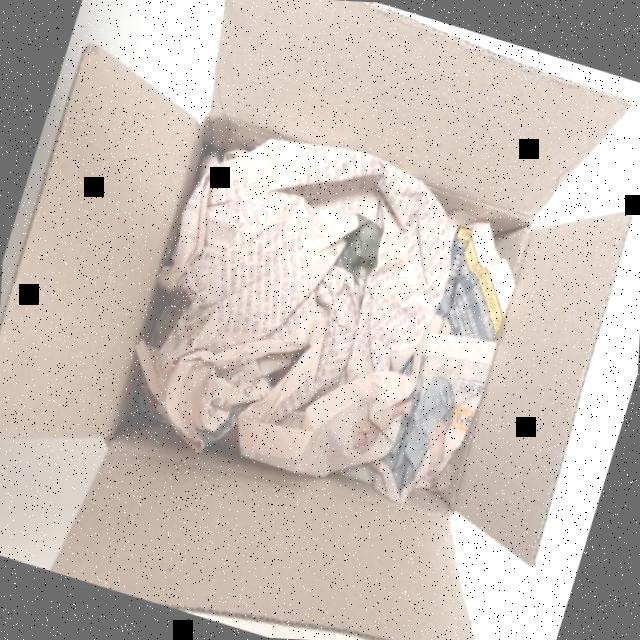reuseable_paper: (107, 130, 547, 542)
